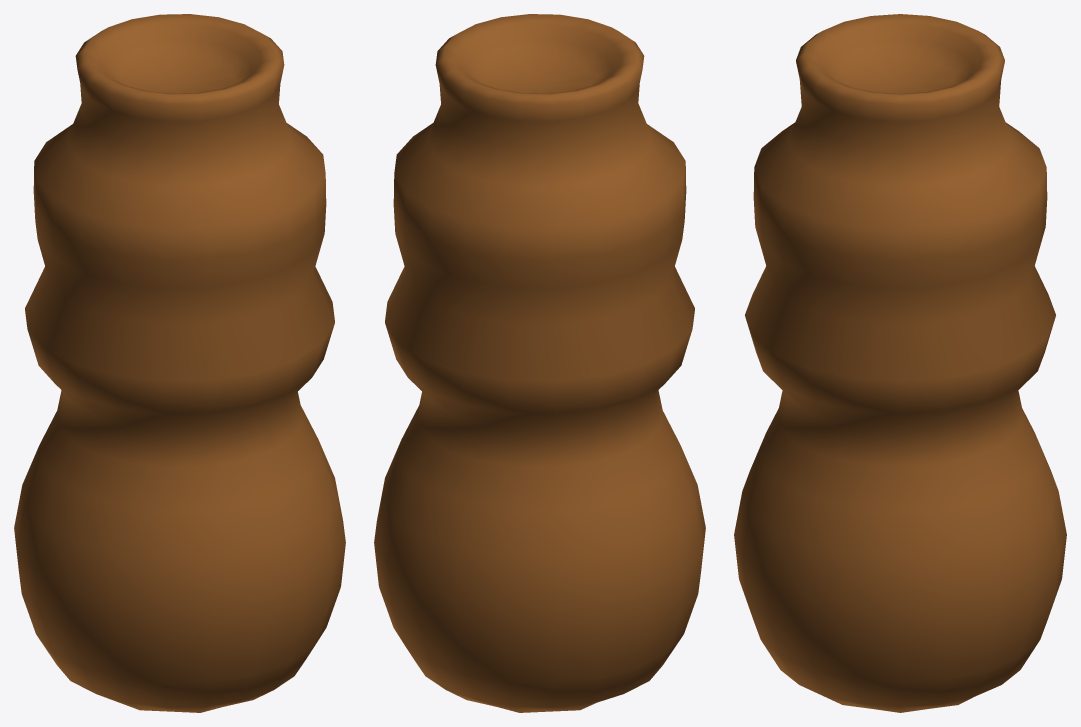
File: museum_assets_10.fbx
3 renders of one model, left to right at view 1: azimuth 30°, elevation 25°; view 2: azimuth 150°, elevation 25°; view 3: azimuth 270°, elevation 25°, orthographic.
Visible parts, largest first — view 1: amfora_5; view 2: amfora_5; view 3: amfora_5.
Boxes of the visible parts, <box> form: amfora_5: <box>14,14,345,712</box>; amfora_5: <box>374,14,705,712</box>; amfora_5: <box>734,14,1066,712</box>.
Bounding box in the file's own units: 0.6914 × 1.44 × 0.6911.
